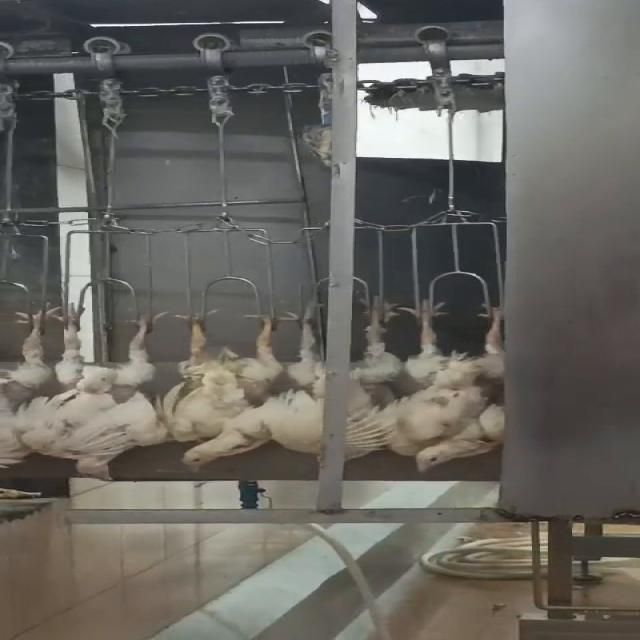chicken: (167, 303, 283, 473), (58, 307, 170, 483), (409, 298, 512, 476), (261, 301, 336, 458), (345, 296, 414, 466), (0, 302, 64, 472)
